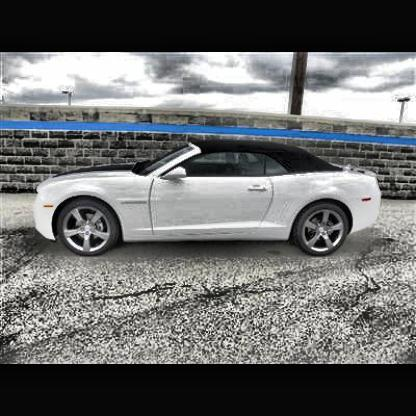Chevrolet Camaro Convertible 2012: (37, 142, 384, 256)
